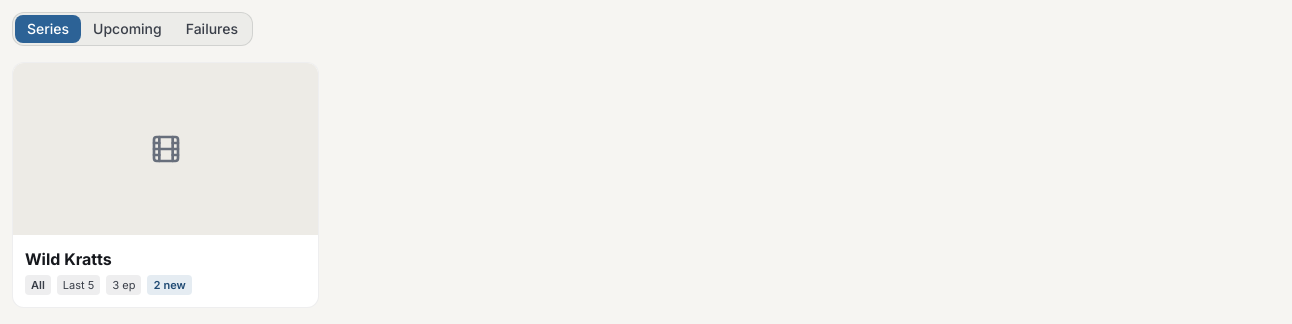
it: Recordings page › Upcoming marks airings by state and filters them
The image size is (1292, 324).
Check: the text "Wild Kratts" is shown, box x1=25 y1=249 x2=112 y2=269
Click the radio button labelled "Upcoming" at (127, 29), box x1=81 y1=15 x2=174 y2=43
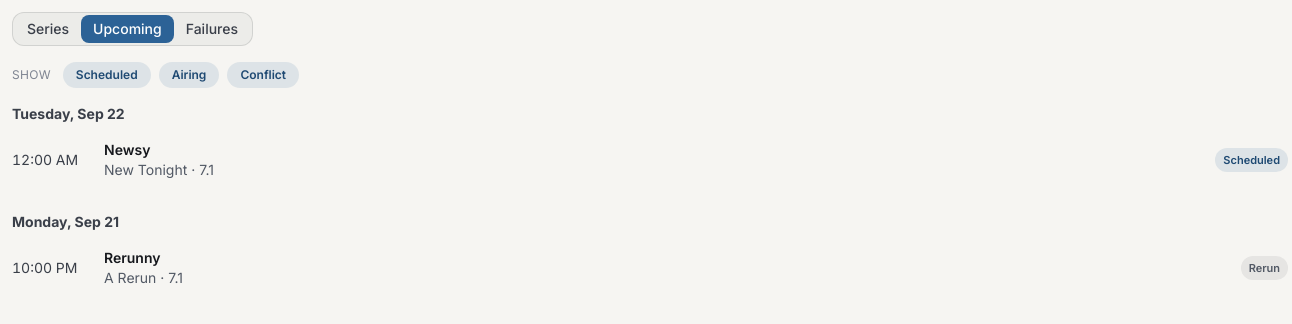
Check: the text "Newsy" is shown, box x1=104 y1=141 x2=150 y2=158
Check: the text "Rerunny" is shown, box x1=104 y1=249 x2=160 y2=266
Check: the text "Rerun" is shown, box x1=1241 y1=256 x2=1288 y2=280
Turning the Airing bucket off hides the skipped row.
Click the button "Airing" at (189, 75), box x1=159 y1=62 x2=219 y2=88
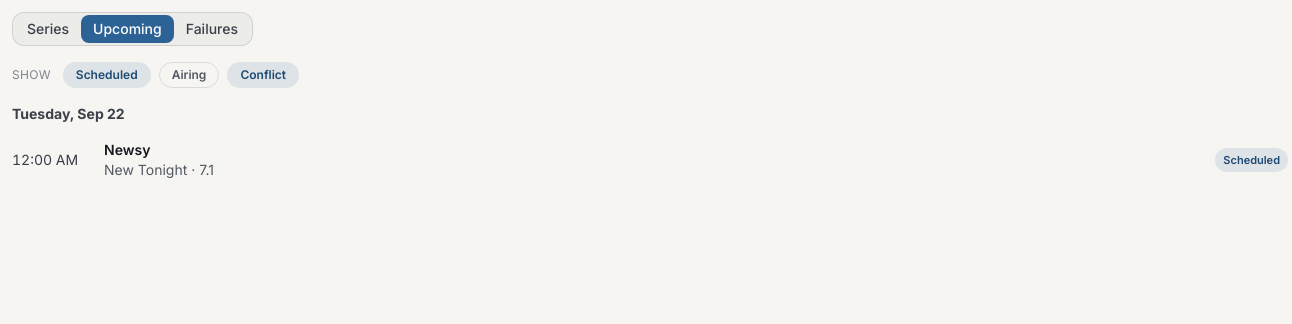
Check: the text "Newsy" is shown, box x1=104 y1=141 x2=150 y2=158
Check: the text "Rerunny" is gone
